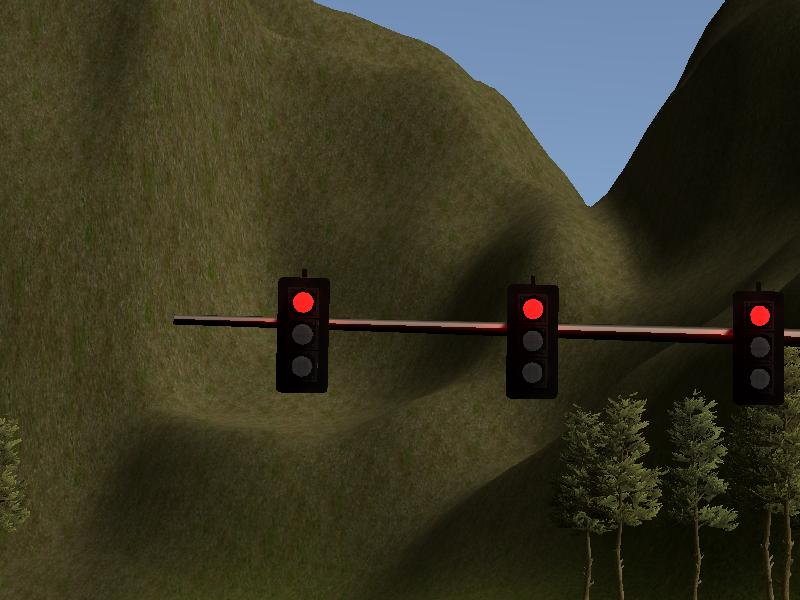Red: (276, 279, 328, 392), (731, 292, 783, 404), (507, 285, 557, 396)
